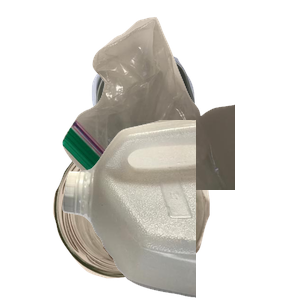glass: (50, 131, 252, 300)
metal: (89, 48, 276, 192)
plastic: (60, 120, 300, 300)
trash: (60, 14, 300, 194)
